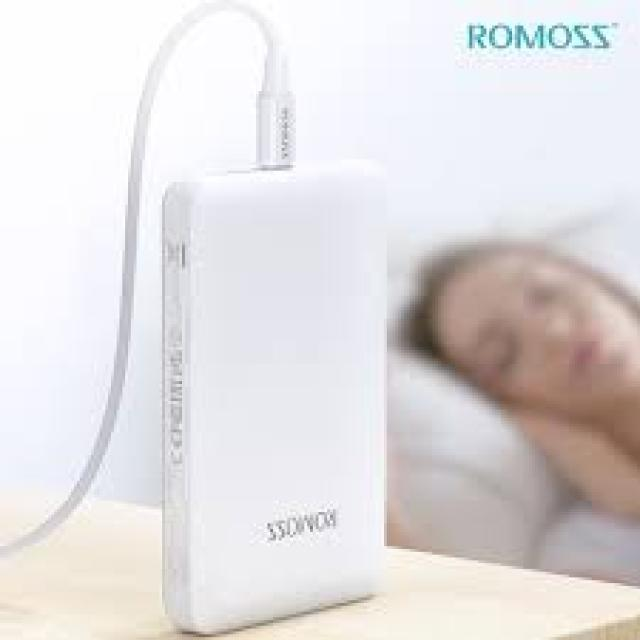portable-charger: (160, 156, 382, 634)
